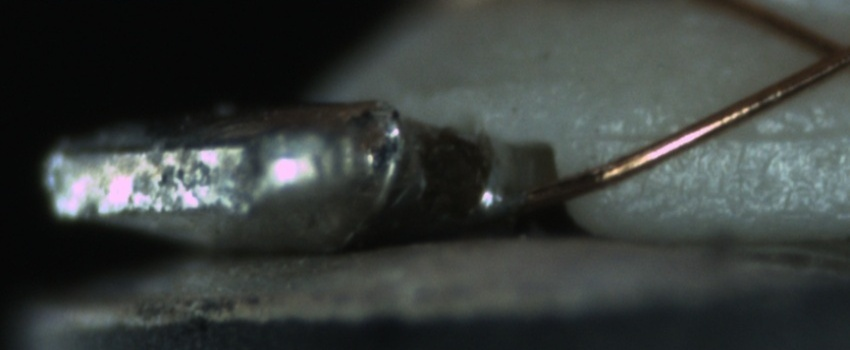CL: (795, 22, 850, 80)
DL: (586, 106, 849, 170)
